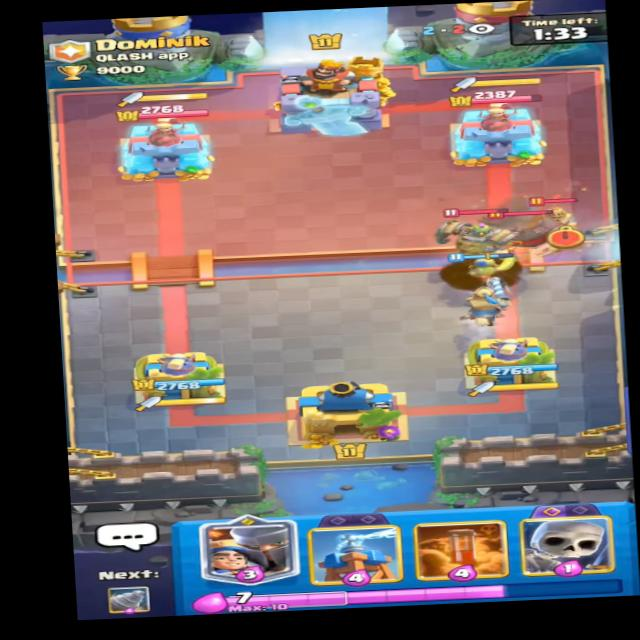giant: (461, 197, 572, 265)
goblin-machine: (413, 199, 531, 263)
prince: (525, 195, 583, 245)
